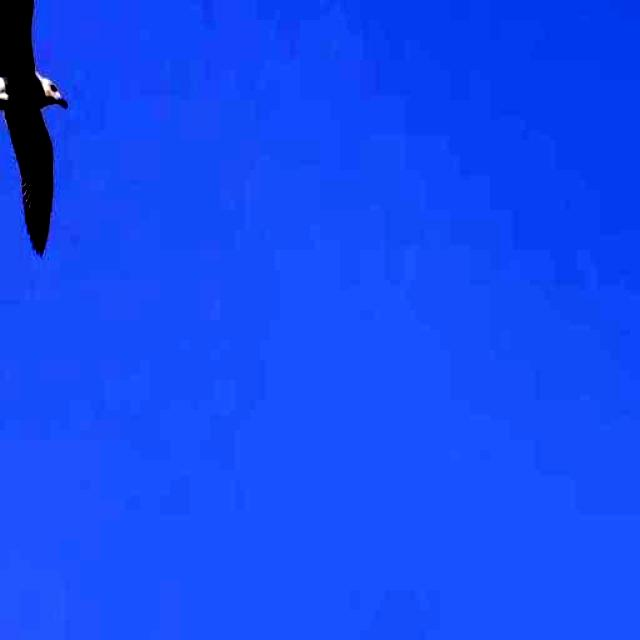airplane: (0, 0, 71, 264)
